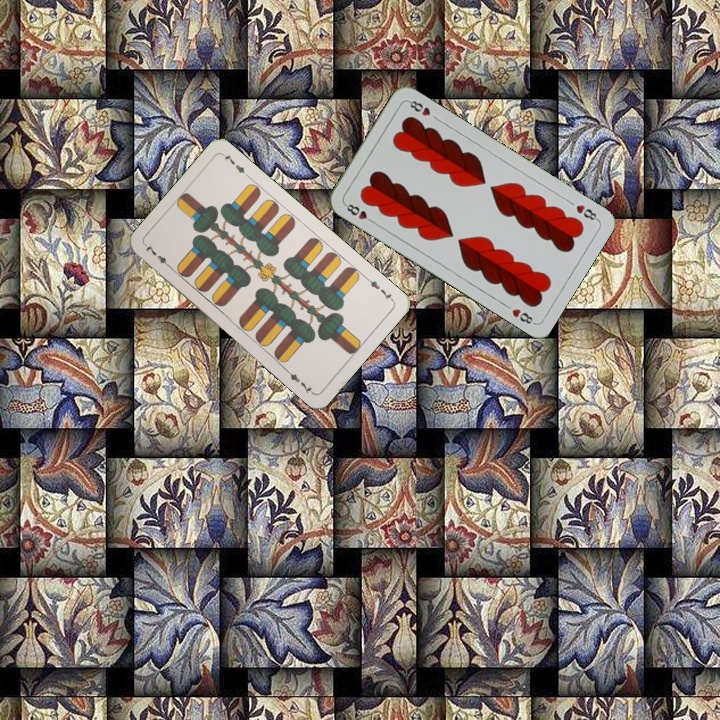E7: (362, 273, 396, 304), (141, 241, 175, 272)
H8: (341, 199, 377, 226), (572, 200, 601, 223)
